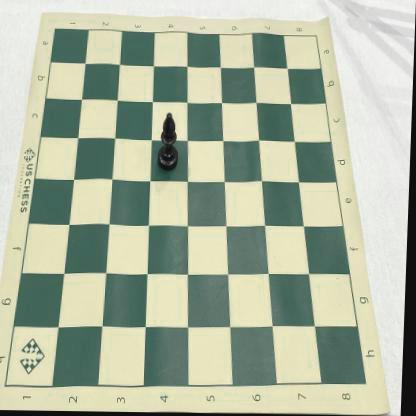black-bishop: (158, 113, 182, 172)
